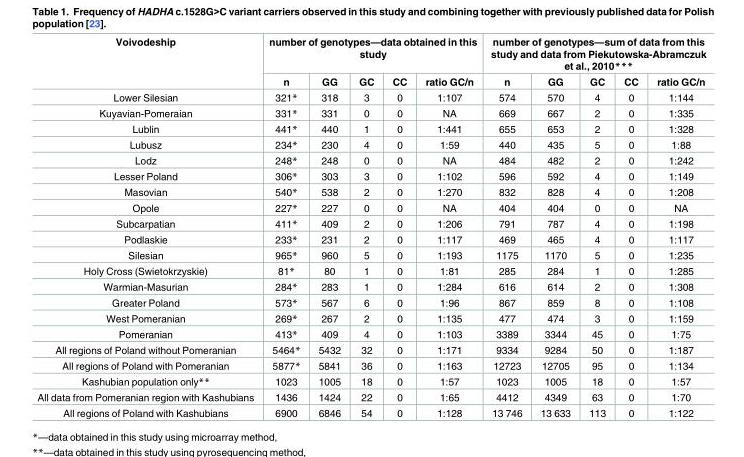table: (36, 37, 705, 418)
table column: (36, 37, 260, 418), (415, 37, 483, 418), (646, 37, 705, 418), (530, 37, 579, 418), (260, 37, 308, 418), (483, 37, 530, 418), (308, 37, 349, 418), (579, 37, 614, 418), (349, 37, 382, 418), (382, 37, 415, 418), (614, 37, 646, 418)
table column header: (36, 37, 705, 88)
table row: (36, 37, 705, 74), (36, 88, 705, 104), (36, 104, 705, 120), (36, 120, 705, 136), (36, 136, 705, 152), (36, 167, 705, 183), (36, 183, 705, 199), (36, 199, 705, 215), (36, 215, 705, 231), (36, 246, 705, 262), (36, 262, 705, 278), (36, 278, 705, 294), (36, 309, 705, 325), (36, 325, 705, 341), (36, 341, 705, 357), (36, 357, 705, 373), (36, 373, 705, 389), (36, 389, 705, 405), (36, 152, 705, 167), (36, 231, 705, 246), (36, 294, 705, 309), (36, 74, 705, 88), (36, 405, 705, 418)
table spanning cell: (36, 37, 260, 88), (260, 37, 483, 74), (483, 37, 705, 74)
